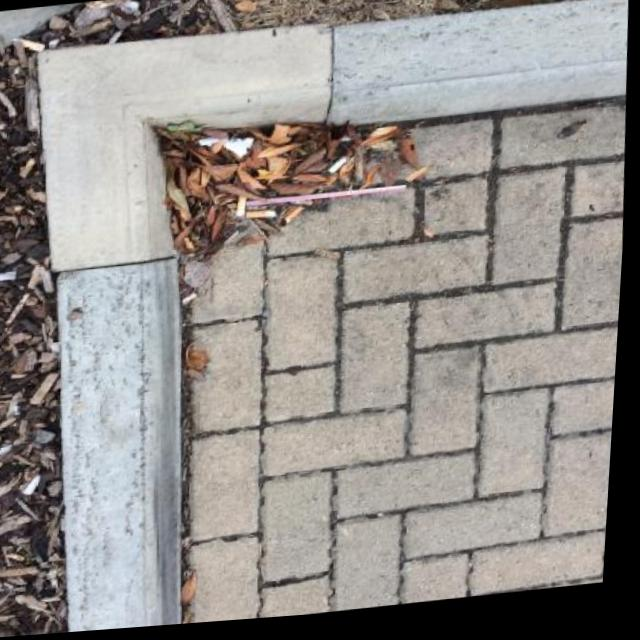plastic: (245, 183, 407, 207)
